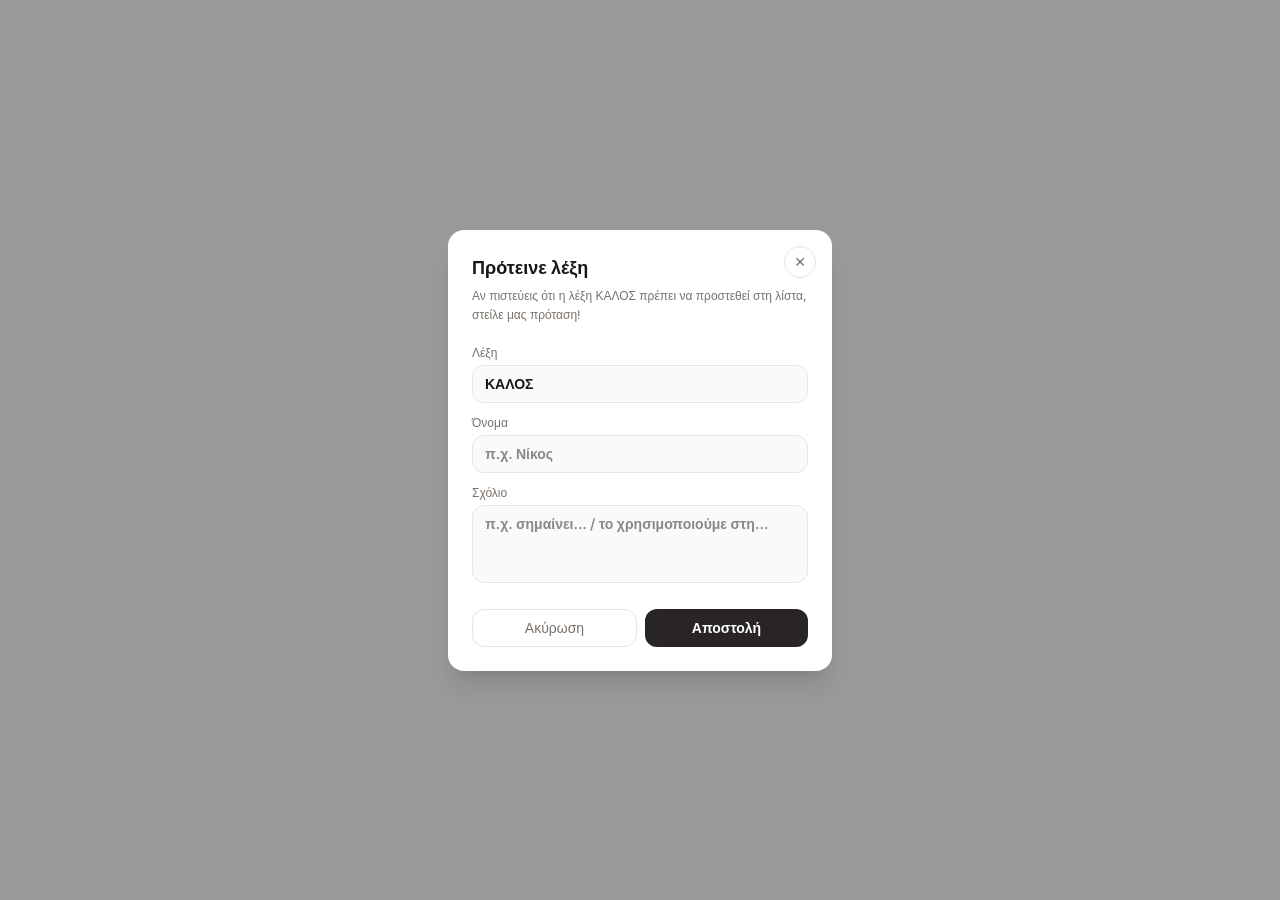
NominationModal — submission › shows error message when POST fails
This screenshot has width=1280, height=900.
Step 1. Type "Νίκος" into the field with test id "nomination-modal-name" → (640, 454), box [472,434,808,472]
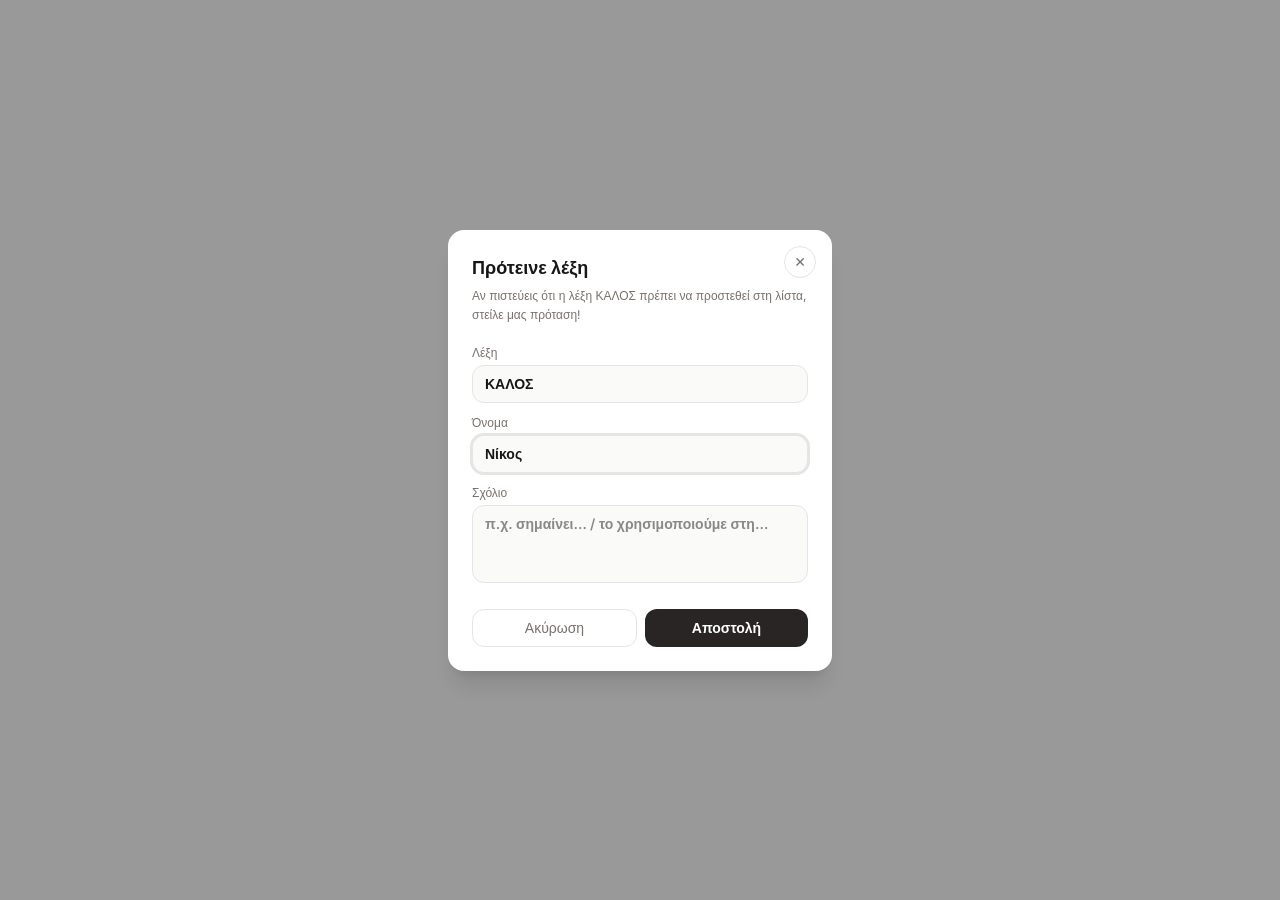
Step 2. Type "μια κανονική εξήγηση" into the text box with test id "nomination-modal-note" → (640, 544), box [472,504,808,582]
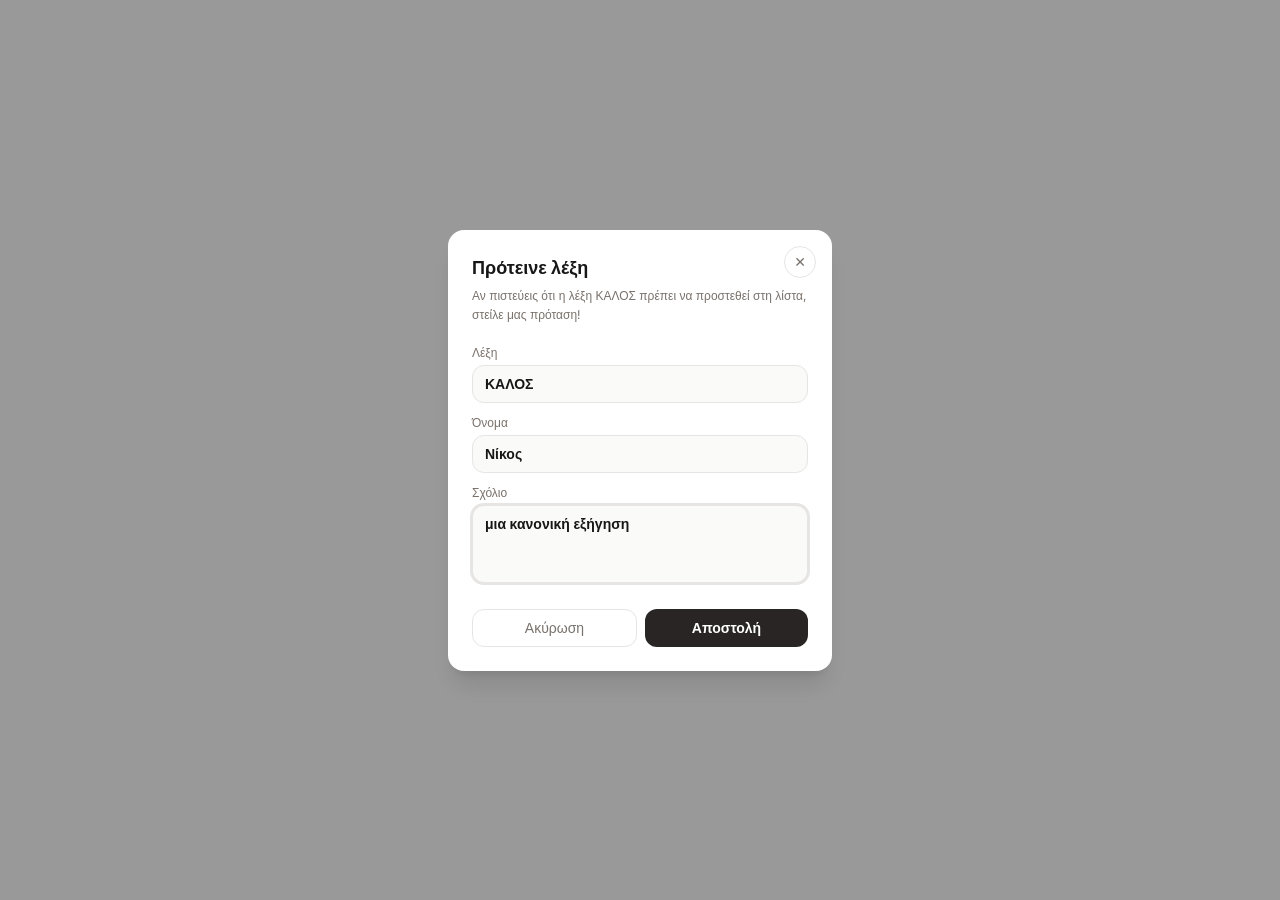
Step 3. Click the button with test id "nomination-modal-submit" → (726, 628), box [645,608,808,646]
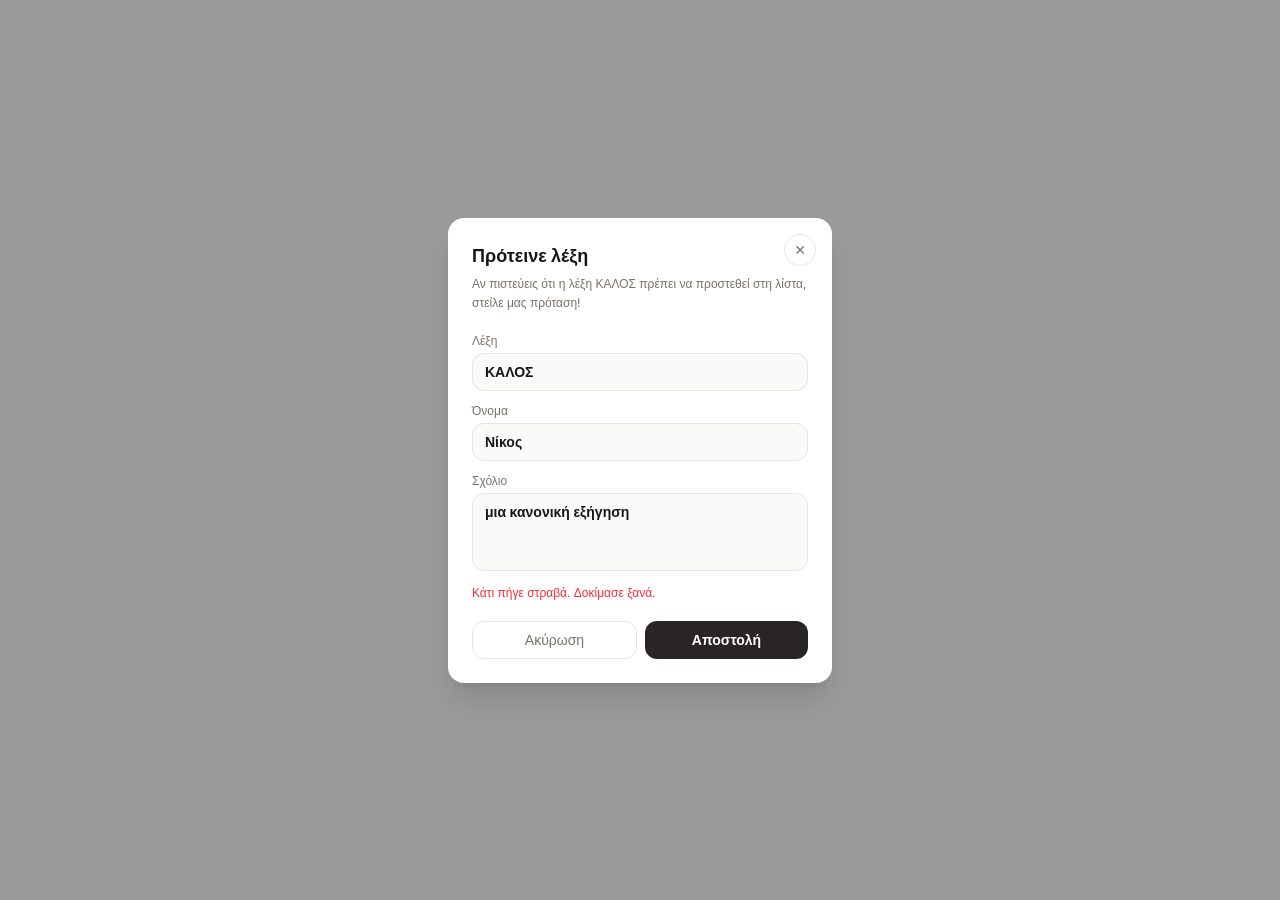
expect the text "Κάτι πήγε στραβά. Δοκίμασε ξανά." is shown: met, box [472,584,656,600]
